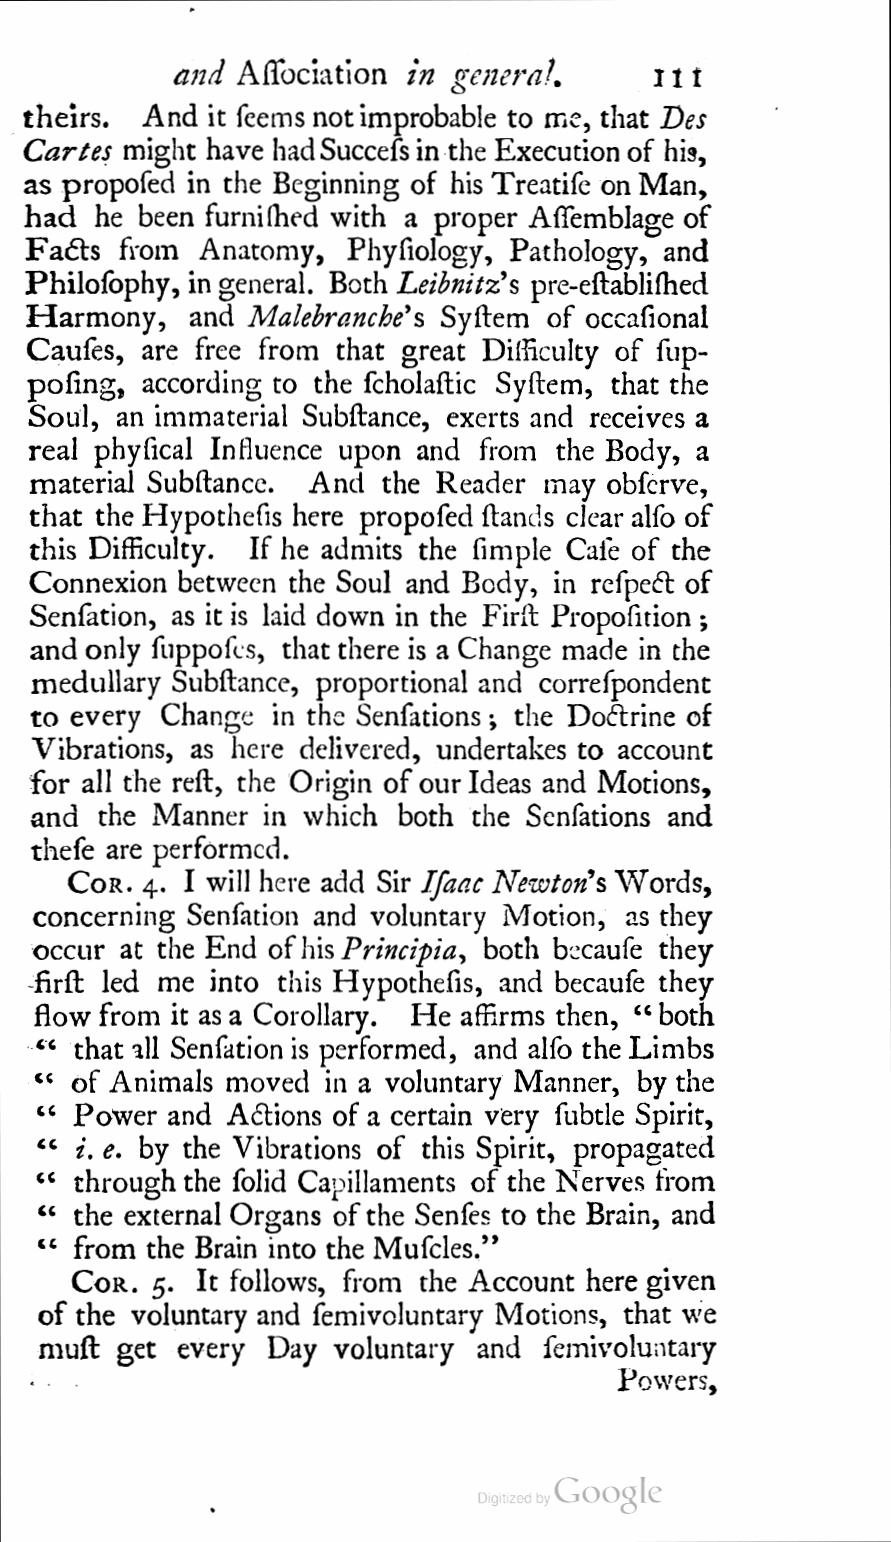bottom_p: (20, 98, 718, 866)
catchword: (606, 1360, 728, 1402)
full_p: (20, 864, 720, 1266)
header: (165, 50, 566, 92)
page_num: (642, 62, 707, 98)
top_p: (22, 1266, 720, 1372)
